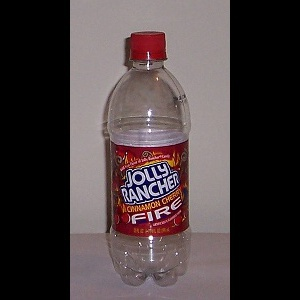emptybottle: (109, 32, 190, 287)
